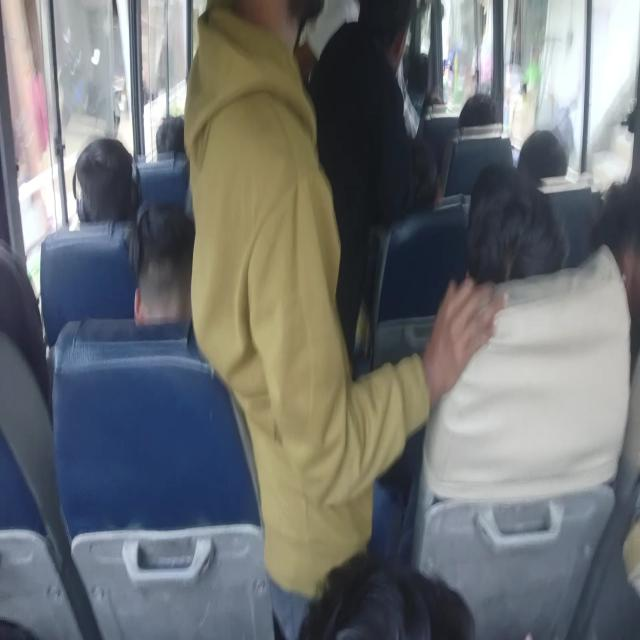person: (212, 8, 317, 372), (337, 0, 460, 205), (282, 516, 484, 640), (462, 162, 566, 326), (133, 221, 198, 363), (582, 192, 640, 333), (73, 151, 141, 236), (402, 134, 458, 224), (520, 119, 567, 200), (0, 291, 43, 377), (454, 80, 513, 140), (417, 46, 458, 119), (154, 114, 197, 160)
